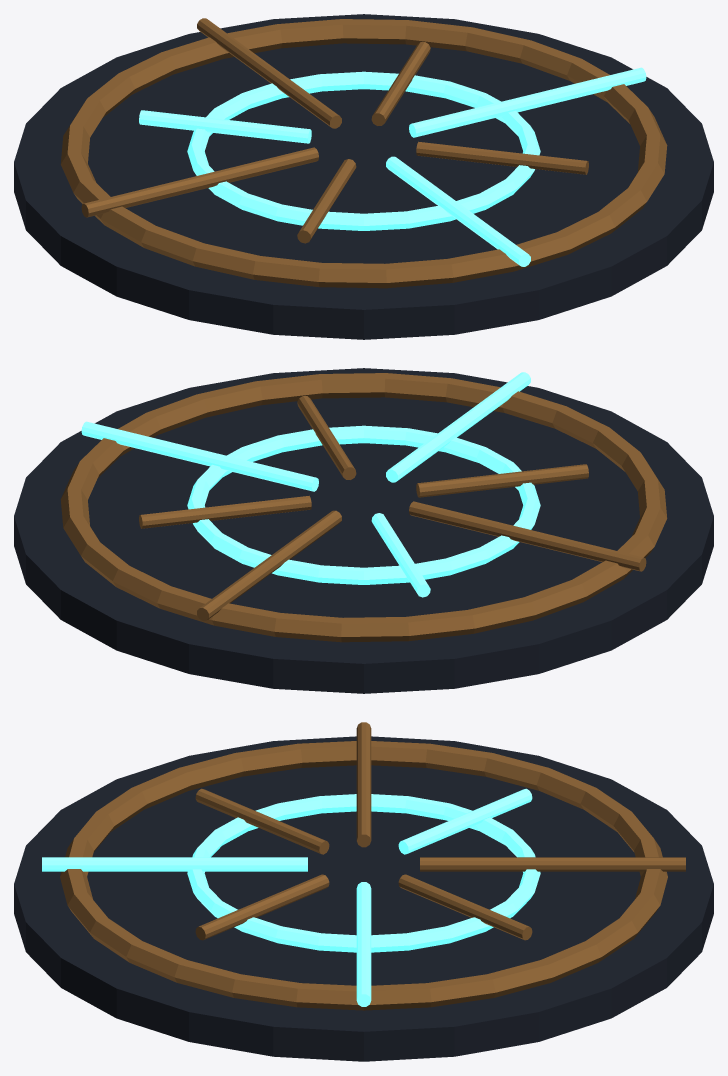
Rendered from runtime.glb.
3 views of the same model, one above another, from view 1: azimuth 30°, elevation 25°; view 2: azimuth 150°, elevation 25°; view 3: azimuth 270°, elevation 25° (orthographic).
Visible parts, largest first — view 1: aetherion-astronomical-medallion-v01_field_nocol, aetherion-astronomical-medallion-v01_outer_meridian_nocol, aetherion-astronomical-medallion-v01_inner_meridian_nocol, aetherion-astronomical-medallion-v01_bearing_00_nocol, aetherion-astronomical-medallion-v01_bearing_04_nocol, aetherion-astronomical-medallion-v01_bearing_03_nocol, aetherion-astronomical-medallion-v01_bearing_02_nocol, aetherion-astronomical-medallion-v01_bearing_06_nocol, aetherion-astronomical-medallion-v01_bearing_07_nocol, aetherion-astronomical-medallion-v01_bearing_01_nocol, aetherion-astronomical-medallion-v01_bearing_05_nocol; view 2: aetherion-astronomical-medallion-v01_field_nocol, aetherion-astronomical-medallion-v01_outer_meridian_nocol, aetherion-astronomical-medallion-v01_inner_meridian_nocol, aetherion-astronomical-medallion-v01_bearing_00_nocol, aetherion-astronomical-medallion-v01_bearing_04_nocol, aetherion-astronomical-medallion-v01_bearing_05_nocol, aetherion-astronomical-medallion-v01_bearing_06_nocol, aetherion-astronomical-medallion-v01_bearing_02_nocol, aetherion-astronomical-medallion-v01_bearing_01_nocol, aetherion-astronomical-medallion-v01_bearing_07_nocol, aetherion-astronomical-medallion-v01_bearing_03_nocol; view 3: aetherion-astronomical-medallion-v01_field_nocol, aetherion-astronomical-medallion-v01_outer_meridian_nocol, aetherion-astronomical-medallion-v01_inner_meridian_nocol, aetherion-astronomical-medallion-v01_bearing_02_nocol, aetherion-astronomical-medallion-v01_bearing_06_nocol, aetherion-astronomical-medallion-v01_bearing_01_nocol, aetherion-astronomical-medallion-v01_bearing_07_nocol, aetherion-astronomical-medallion-v01_bearing_03_nocol, aetherion-astronomical-medallion-v01_bearing_05_nocol, aetherion-astronomical-medallion-v01_bearing_04_nocol, aetherion-astronomical-medallion-v01_bearing_00_nocol.
Boxes of the visible parts, <box> form: aetherion-astronomical-medallion-v01_field_nocol: <box>14,14,713,339</box>; aetherion-astronomical-medallion-v01_outer_meridian_nocol: <box>60,19,667,288</box>; aetherion-astronomical-medallion-v01_inner_meridian_nocol: <box>187,71,540,230</box>; aetherion-astronomical-medallion-v01_bearing_00_nocol: <box>409,67,646,137</box>; aetherion-astronomical-medallion-v01_bearing_04_nocol: <box>81,147,318,217</box>; aetherion-astronomical-medallion-v01_bearing_03_nocol: <box>139,110,311,143</box>; aetherion-astronomical-medallion-v01_bearing_02_nocol: <box>197,18,341,128</box>; aetherion-astronomical-medallion-v01_bearing_06_nocol: <box>386,156,530,266</box>; aetherion-astronomical-medallion-v01_bearing_07_nocol: <box>416,141,588,174</box>; aetherion-astronomical-medallion-v01_bearing_01_nocol: <box>371,42,430,125</box>; aetherion-astronomical-medallion-v01_bearing_05_nocol: <box>297,159,356,243</box>; aetherion-astronomical-medallion-v01_field_nocol: <box>14,368,713,693</box>; aetherion-astronomical-medallion-v01_outer_meridian_nocol: <box>60,373,667,642</box>; aetherion-astronomical-medallion-v01_inner_meridian_nocol: <box>187,425,540,584</box>; aetherion-astronomical-medallion-v01_bearing_00_nocol: <box>81,421,318,491</box>; aetherion-astronomical-medallion-v01_bearing_04_nocol: <box>409,501,646,571</box>; aetherion-astronomical-medallion-v01_bearing_05_nocol: <box>416,464,588,497</box>; aetherion-astronomical-medallion-v01_bearing_06_nocol: <box>386,372,530,482</box>; aetherion-astronomical-medallion-v01_bearing_02_nocol: <box>197,510,341,620</box>; aetherion-astronomical-medallion-v01_bearing_01_nocol: <box>139,495,311,528</box>; aetherion-astronomical-medallion-v01_bearing_07_nocol: <box>297,396,356,479</box>; aetherion-astronomical-medallion-v01_bearing_03_nocol: <box>371,513,430,597</box>; aetherion-astronomical-medallion-v01_field_nocol: <box>14,736,713,1061</box>; aetherion-astronomical-medallion-v01_outer_meridian_nocol: <box>60,741,667,1010</box>; aetherion-astronomical-medallion-v01_inner_meridian_nocol: <box>187,794,540,952</box>; aetherion-astronomical-medallion-v01_bearing_02_nocol: <box>420,857,685,871</box>; aetherion-astronomical-medallion-v01_bearing_06_nocol: <box>42,857,307,871</box>; aetherion-astronomical-medallion-v01_bearing_01_nocol: <box>398,874,532,940</box>; aetherion-astronomical-medallion-v01_bearing_07_nocol: <box>195,874,329,940</box>; aetherion-astronomical-medallion-v01_bearing_03_nocol: <box>398,788,532,854</box>; aetherion-astronomical-medallion-v01_bearing_05_nocol: <box>195,788,329,854</box>; aetherion-astronomical-medallion-v01_bearing_04_nocol: <box>356,722,371,847</box>; aetherion-astronomical-medallion-v01_bearing_00_nocol: <box>356,882,371,1006</box>.
Bounding box in the file's own units: 7.2 × 0.635 × 7.2.
